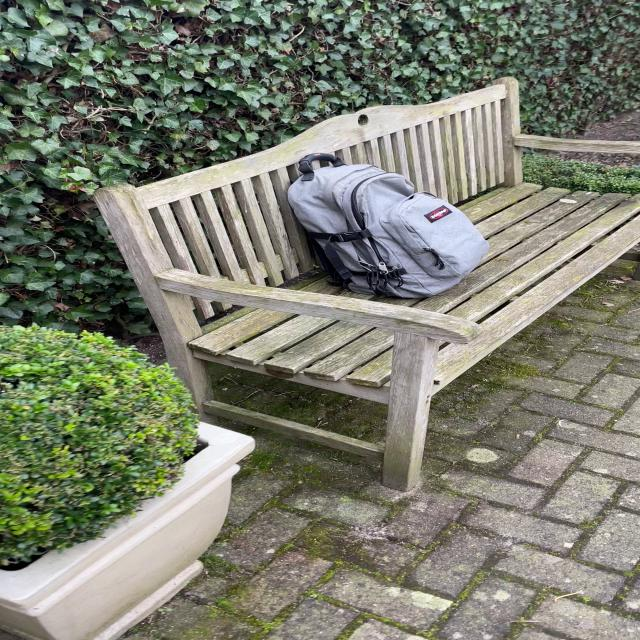backpack: (279, 150, 495, 303)
